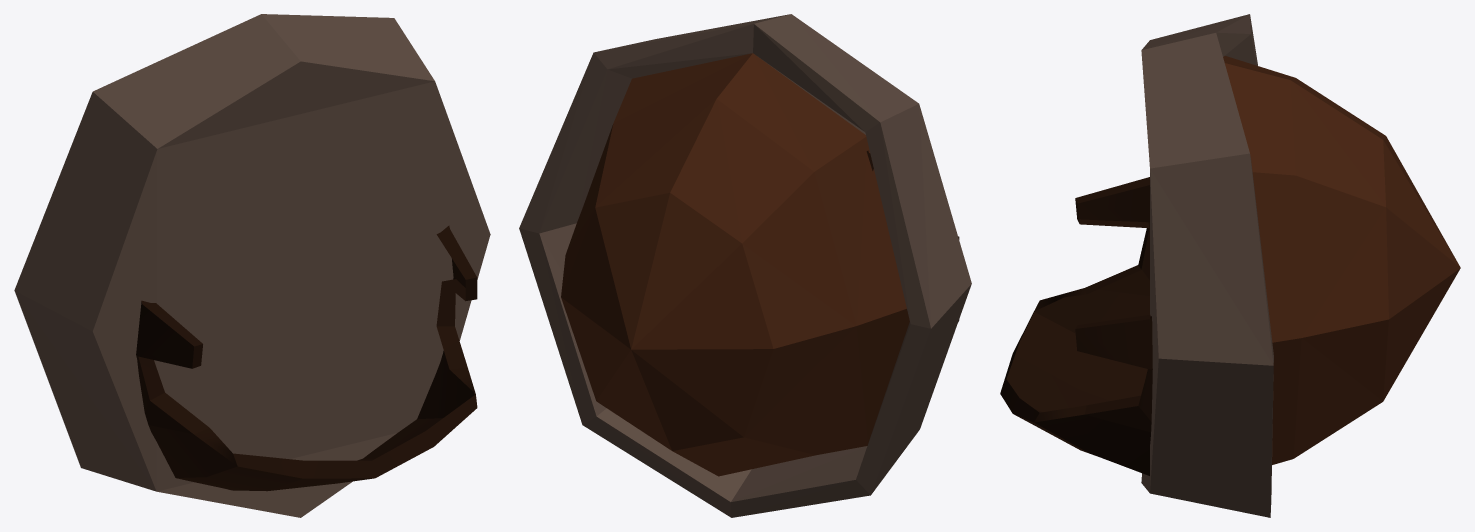
File: Hat 07.FBX
The picture shows the model from 3 angles, left to right: view 1: azimuth 30°, elevation 25°; view 2: azimuth 150°, elevation 25°; view 3: azimuth 270°, elevation 25°; orthographic projection. The views are drawn at different scales.
Parts seen in each view (by area): view 1: Hat 07, Hair Headgear; view 2: Hat 07; view 3: Hat 07, Hair Headgear.
Boxes of the visible parts, x1=… form: Hat 07: x1=14, y1=14, x2=490, y2=517; Hair Headgear: x1=136, y1=225, x2=477, y2=491; Hat 07: x1=519, y1=14, x2=971, y2=517; Hat 07: x1=1141, y1=14, x2=1460, y2=517; Hair Headgear: x1=1000, y1=177, x2=1152, y2=475.
Bounding box in the file's own units: 41.73 × 40.54 × 46.24.
2 materials, 1 textured.
